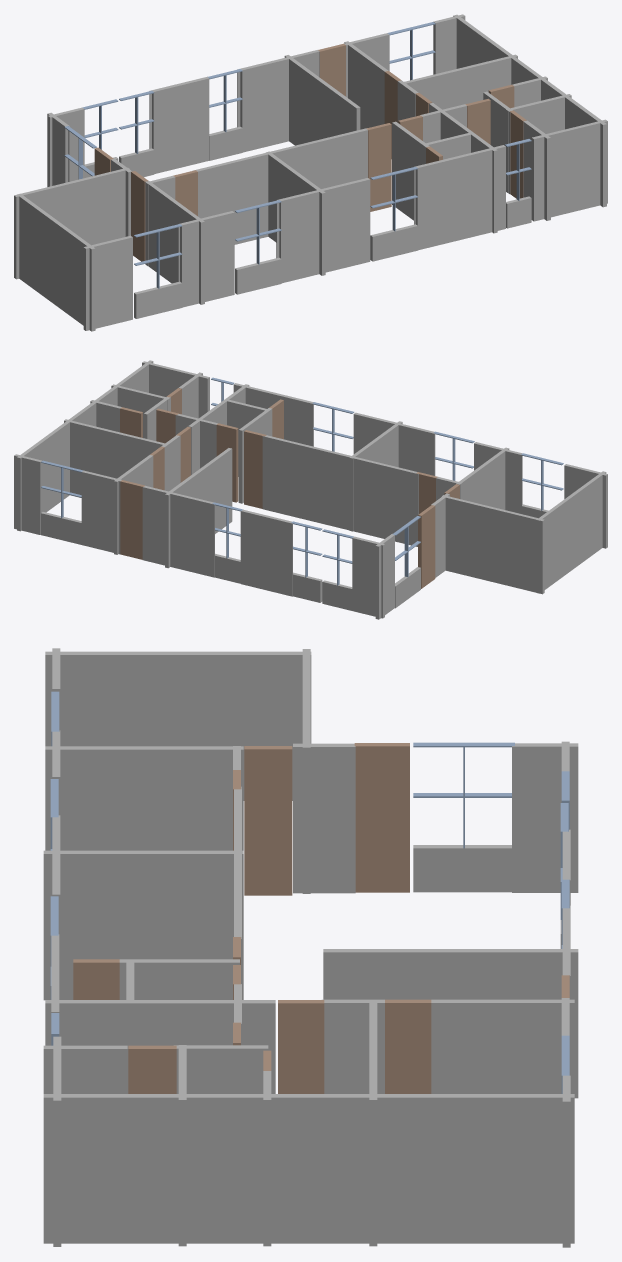
Rendered from job_14.glb.
3 renders of one model, top to bottom at view 1: azimuth 30°, elevation 25°; view 2: azimuth 150°, elevation 25°; view 3: azimuth 270°, elevation 25°, orthographic. The views are drawn at different scales.
Parts seen in each view (by area): view 1: walls, window_7, door_4, window_2, window_3, window_1, door_2, window_4, door_0, window_8, door_10, door_8 (+5 smaller); view 2: walls, door_0, door_4, window_5, door_1, window_0, window_6, window_4, door_3, window_1, window_7, door_8 (+7 smaller); view 3: walls, door_1, door_2, window_0, door_9, door_11, door_10, door_7.
Boxes of the visible parts, <box> form: walls: <box>14,14,607,331</box>; window_7: <box>134,224,182,318</box>; door_4: <box>366,123,391,211</box>; window_2: <box>370,166,417,261</box>; window_3: <box>235,200,281,294</box>; window_1: <box>208,69,242,160</box>; door_2: <box>131,171,148,261</box>; window_4: <box>119,91,154,176</box>; door_0: <box>318,43,345,96</box>; window_8: <box>505,139,531,228</box>; door_10: <box>510,110,526,198</box>; door_8: <box>465,98,490,144</box>; walls: <box>14,360,607,619</box>; door_0: <box>120,480,144,559</box>; door_4: <box>244,430,266,508</box>; window_5: <box>41,460,83,544</box>; door_1: <box>418,505,435,588</box>; window_0: <box>392,516,420,608</box>; window_6: <box>322,529,353,610</box>; window_4: <box>291,521,322,602</box>; door_3: <box>216,423,238,502</box>; window_1: <box>212,502,242,583</box>; window_7: <box>521,453,563,518</box>; door_8: <box>156,408,178,443</box>; walls: <box>43,648,578,1247</box>; door_1: <box>354,743,409,892</box>; door_2: <box>244,746,292,895</box>; window_0: <box>413,742,514,892</box>; door_9: <box>385,999,431,1093</box>; door_11: <box>278,1000,324,1093</box>; door_10: <box>128,1045,176,1093</box>; door_7: <box>73,959,119,999</box>.
Size of the model in its own units: 19.95 by 3 by 9.95.
